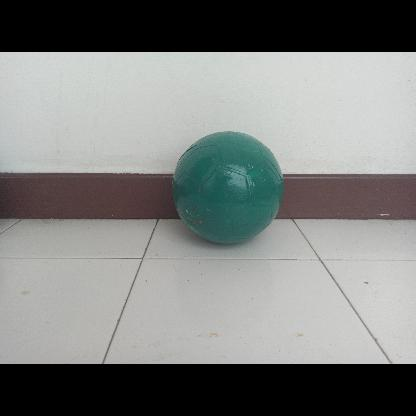green_ball: (170, 130, 282, 242)
